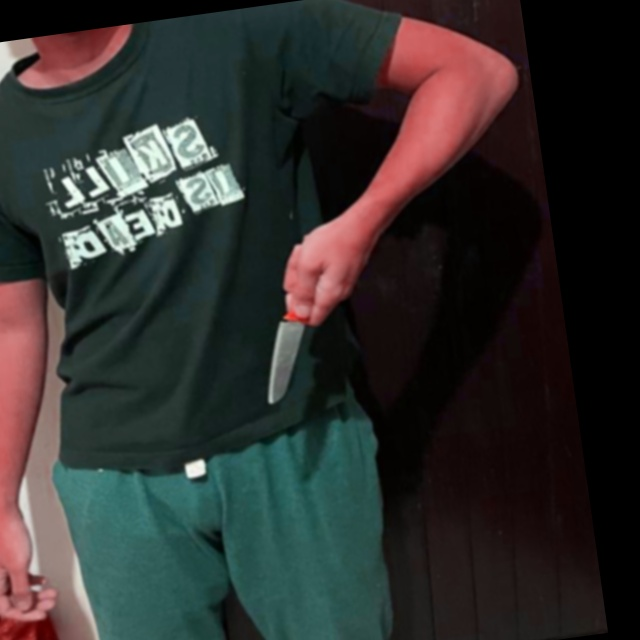Sharp-Object: (253, 307, 320, 408)
